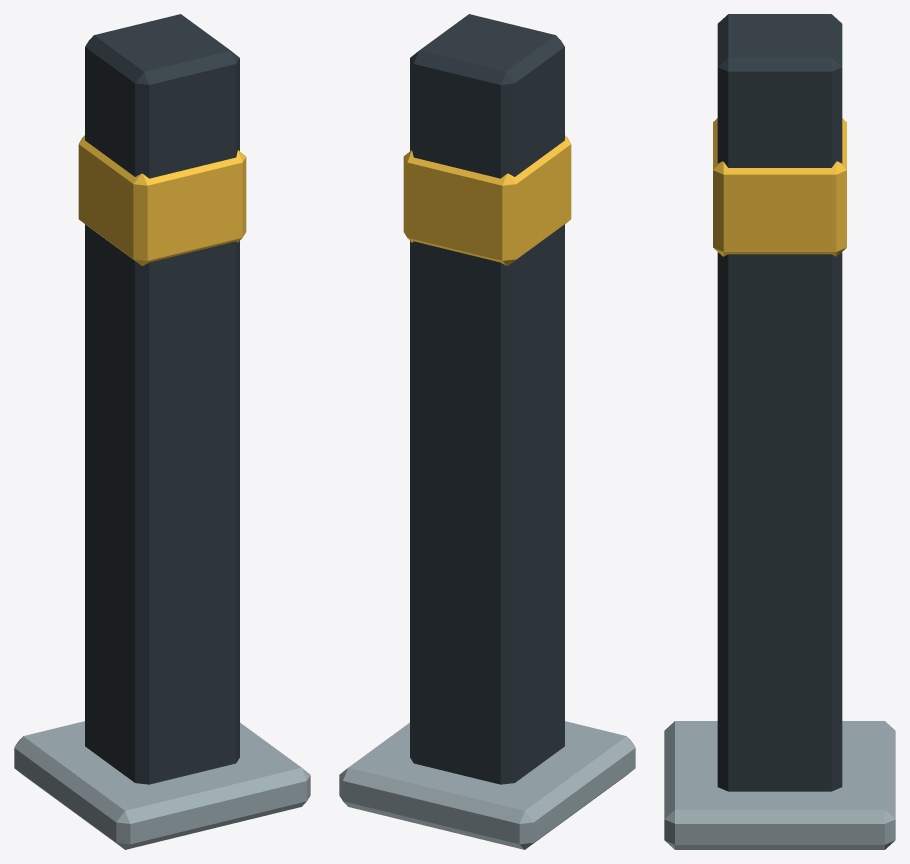
Rendered from Bollard_Square.glb.
3 views of the same model, side by side, from view 1: azimuth 30°, elevation 25°; view 2: azimuth 150°, elevation 25°; view 3: azimuth 270°, elevation 25° (orthographic). The views are drawn at different scales.
Visible parts, largest first — view 1: Bollard_Square; view 2: Bollard_Square; view 3: Bollard_Square.
Part boxes in pixels (x1,y1,x2,y2): Bollard_Square: [14, 14, 310, 849]; Bollard_Square: [339, 14, 635, 849]; Bollard_Square: [664, 14, 895, 849].
Size of the model in its own units: 0.26 by 0.955 by 0.26.
